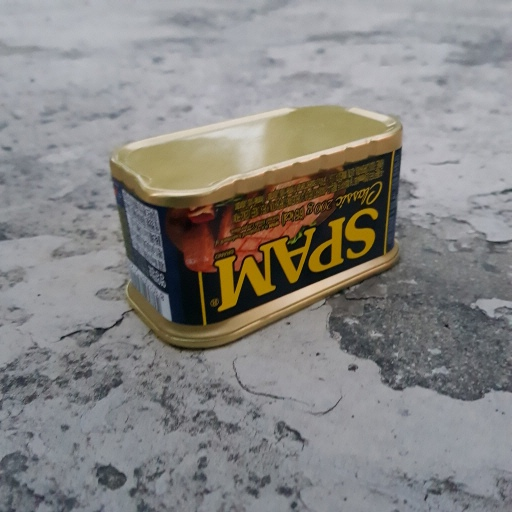Metal_2: (108, 97, 408, 348)
